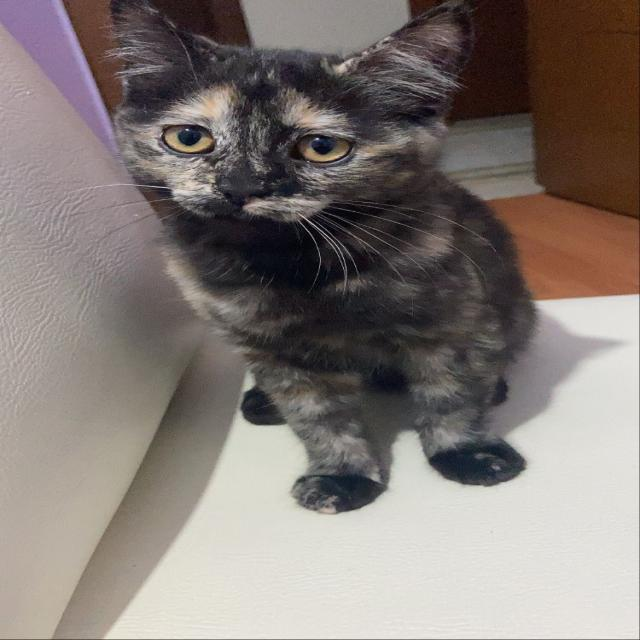authorized: (86, 0, 540, 515)
